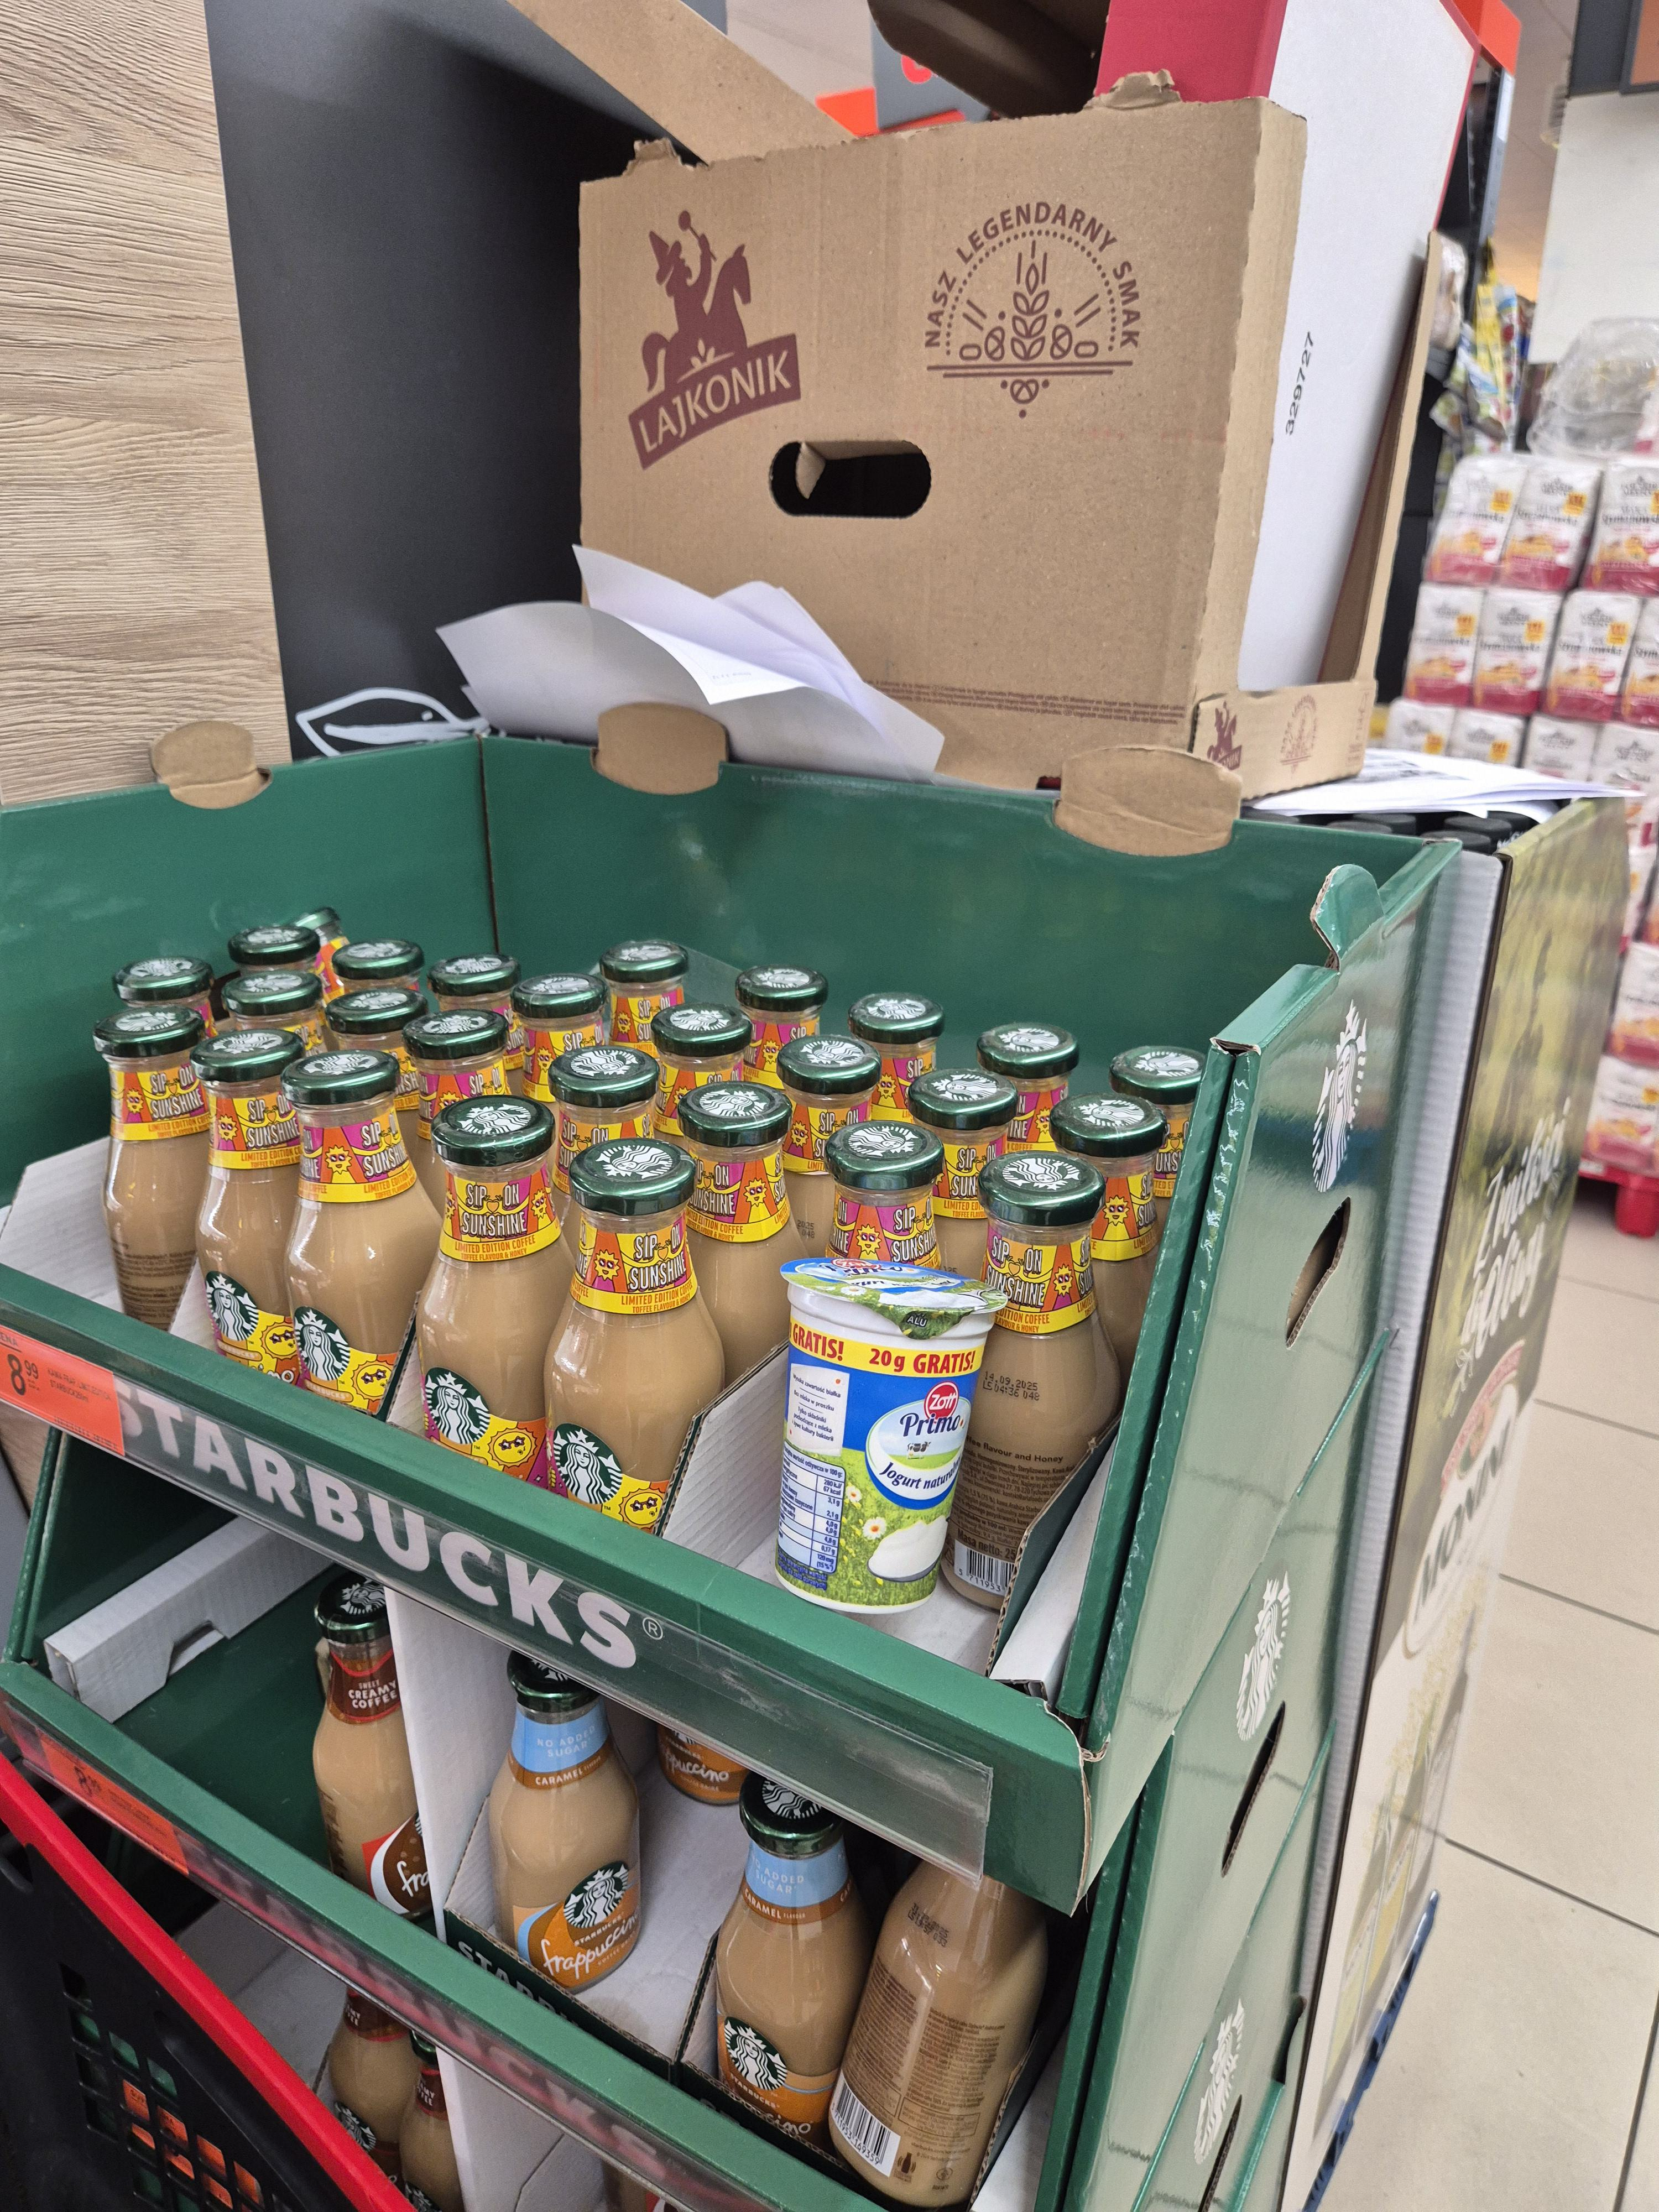Yogurt: (756, 1228, 1006, 1625)
